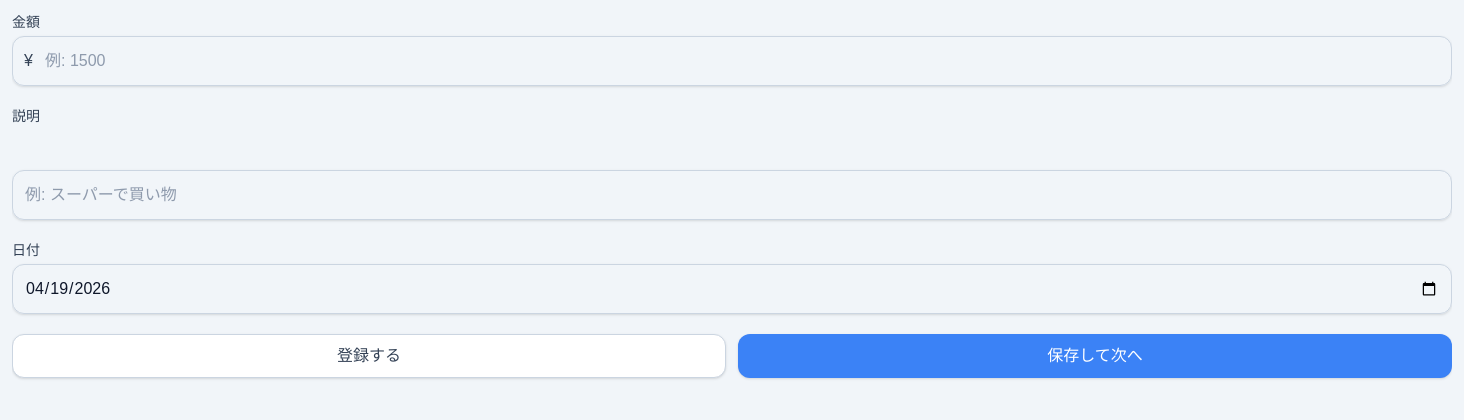
PaymentForm › バリデーションエラー表示 › 説明が空で送信するとエラーを表示する
Step 1. Type "1000" into the field labelled "金額" → coordinates (732, 61), box [12,36,1452,86]
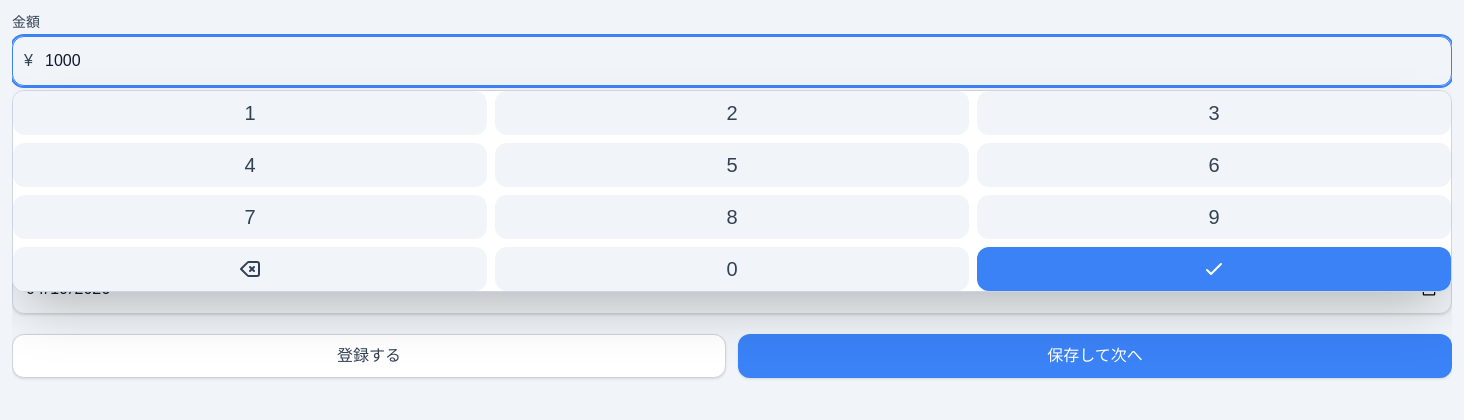
#  説明は空のまま
Step 2. Click the button "登録する" → coordinates (369, 356), box [12,334,726,378]
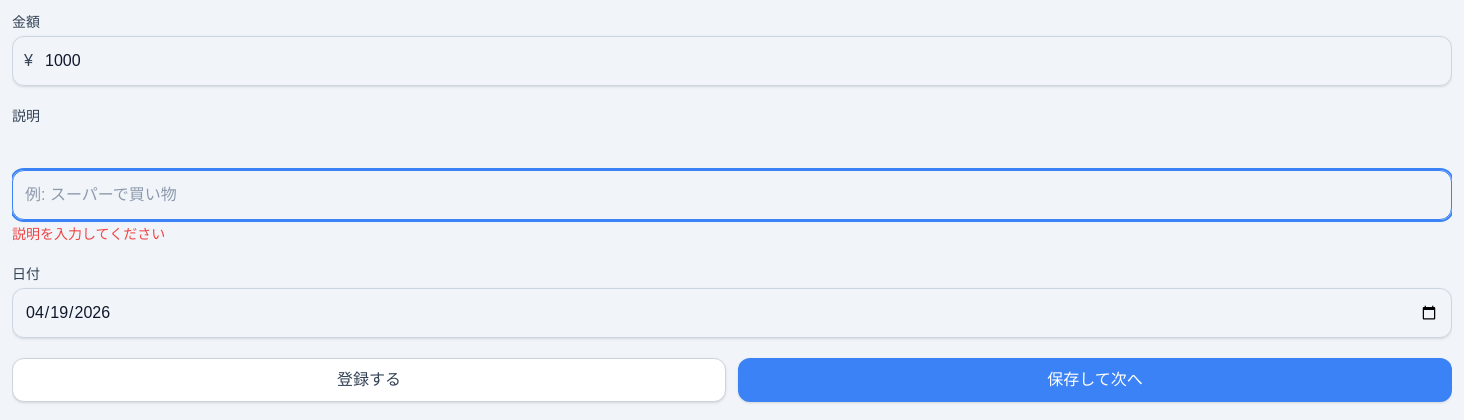
Check: the text "説明を入力してください" is shown, box [12,226,165,242]
